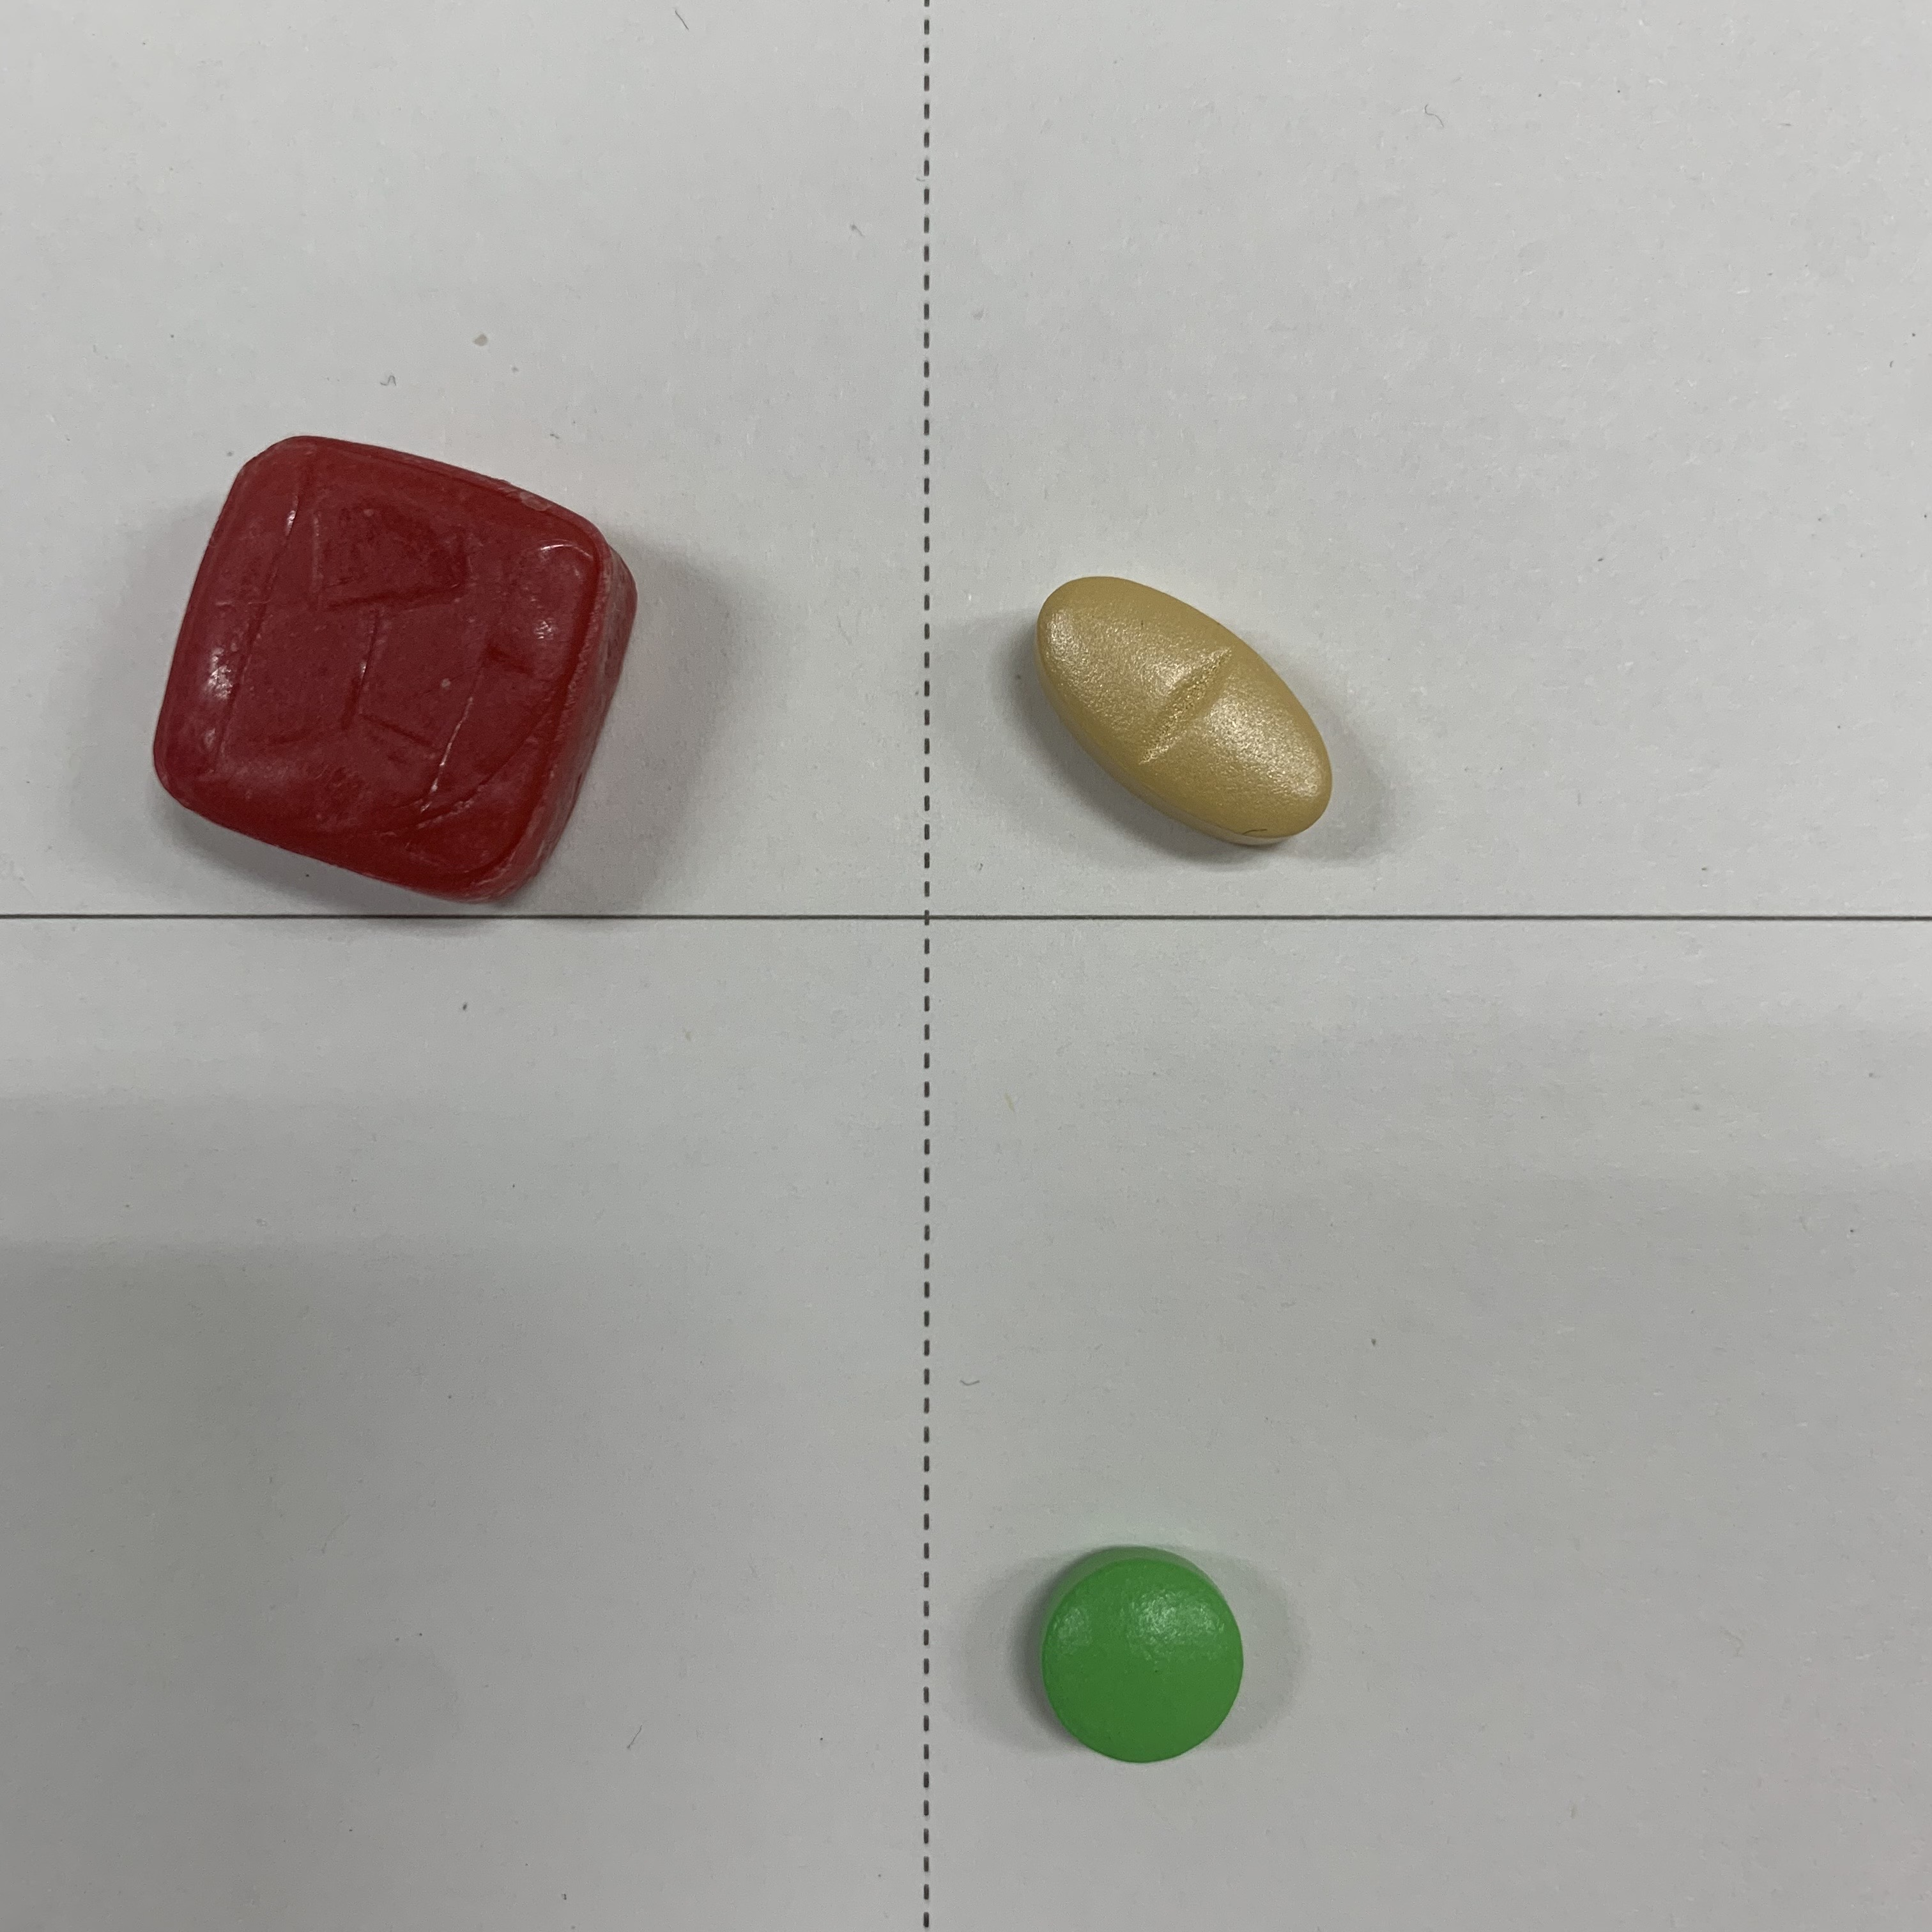cir_drug: (1012, 1536, 1267, 1783)
oval_drug: (1017, 563, 1364, 869)
sqr_drug: (138, 419, 676, 925)
